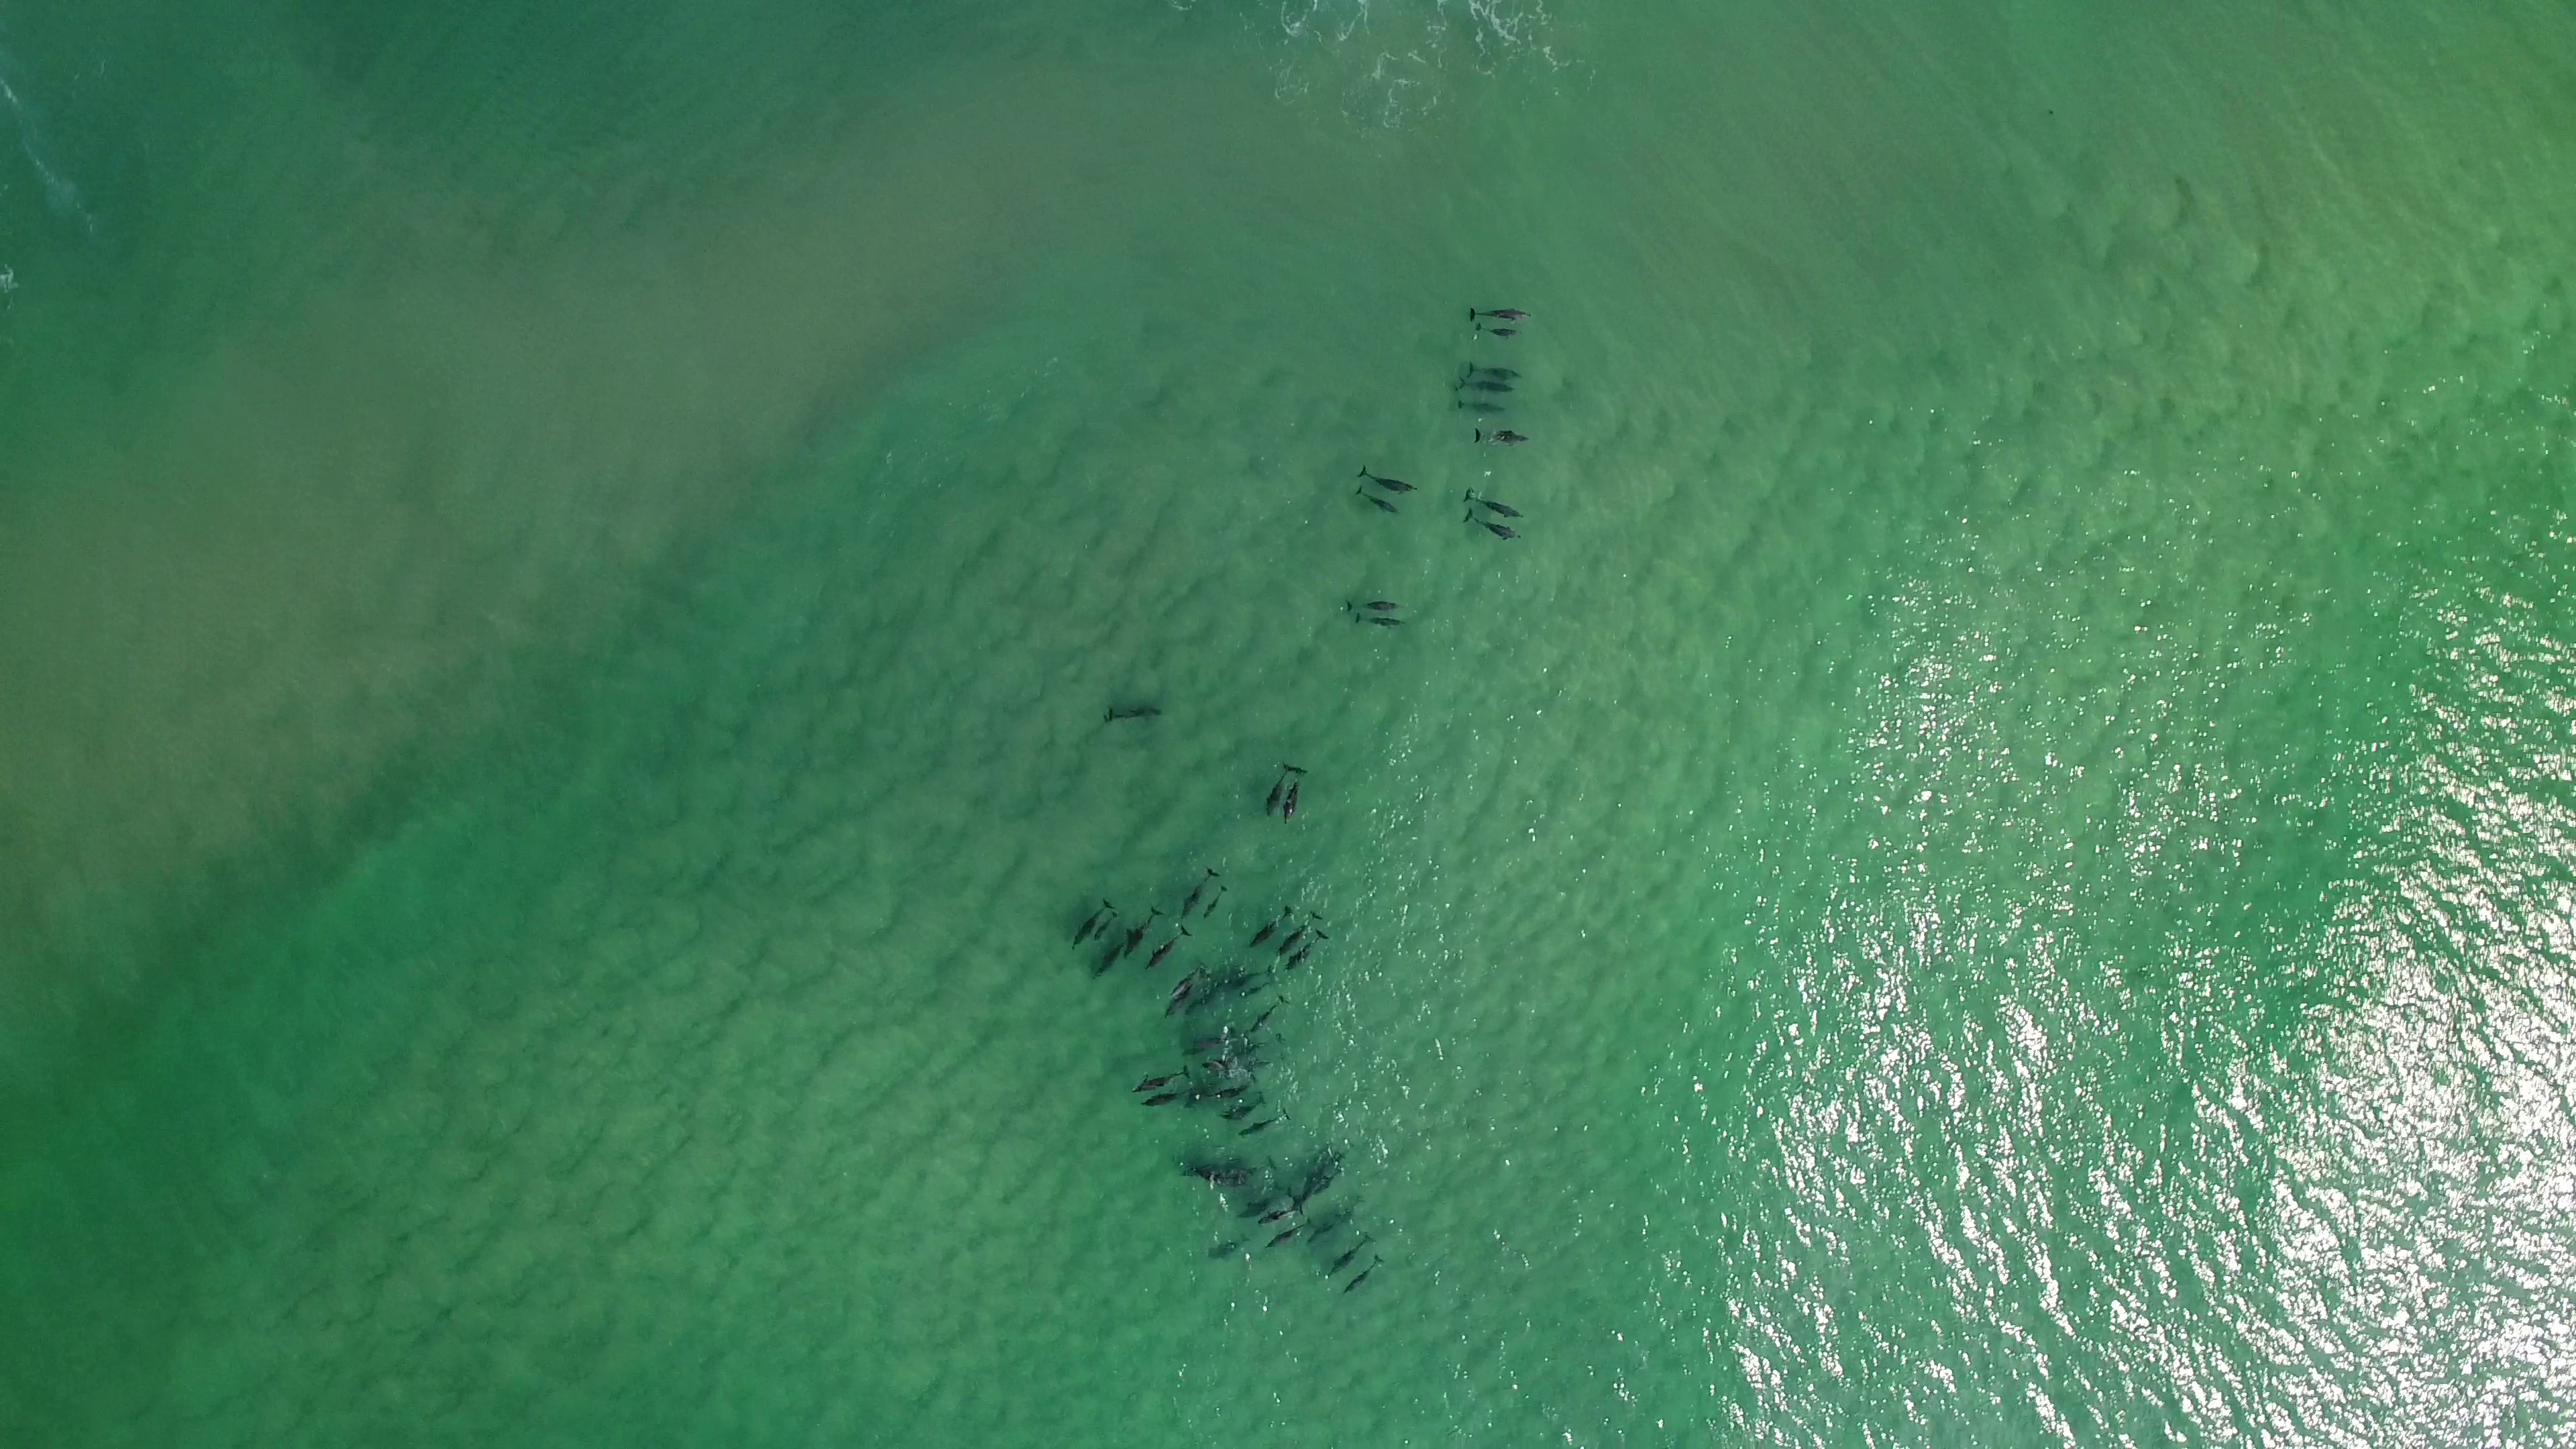dolphin: (1322, 1230, 1371, 1284), (1254, 764, 1297, 824), (1143, 920, 1191, 971), (1244, 902, 1295, 950), (1063, 893, 1108, 948), (1461, 510, 1523, 548), (1274, 908, 1320, 957), (1180, 863, 1219, 922), (1463, 483, 1523, 520), (1460, 352, 1523, 386), (1361, 462, 1417, 497), (1235, 1184, 1293, 1217), (1284, 925, 1329, 970), (1123, 908, 1162, 957), (1343, 1251, 1384, 1295), (1279, 770, 1309, 828), (1215, 962, 1277, 991), (1182, 980, 1231, 1016), (1247, 991, 1288, 1033), (1470, 423, 1530, 449), (1131, 1065, 1191, 1092), (1217, 1157, 1276, 1184), (1093, 936, 1131, 977), (1269, 1215, 1311, 1251), (1346, 487, 1398, 515), (1238, 1108, 1290, 1136), (1138, 1086, 1196, 1111), (1341, 593, 1401, 616), (1217, 1092, 1263, 1122), (1162, 982, 1200, 1019), (1207, 1076, 1258, 1102), (1178, 1157, 1246, 1177), (1088, 908, 1118, 950), (1258, 1200, 1306, 1226), (1454, 379, 1525, 396), (1102, 706, 1166, 725), (1201, 1233, 1247, 1260), (1449, 396, 1511, 416), (1169, 961, 1205, 994), (1353, 612, 1414, 632), (1198, 883, 1226, 922), (1311, 1166, 1346, 1196), (1465, 308, 1536, 322), (1185, 1028, 1235, 1047), (1468, 326, 1525, 338), (1203, 1056, 1244, 1072)
